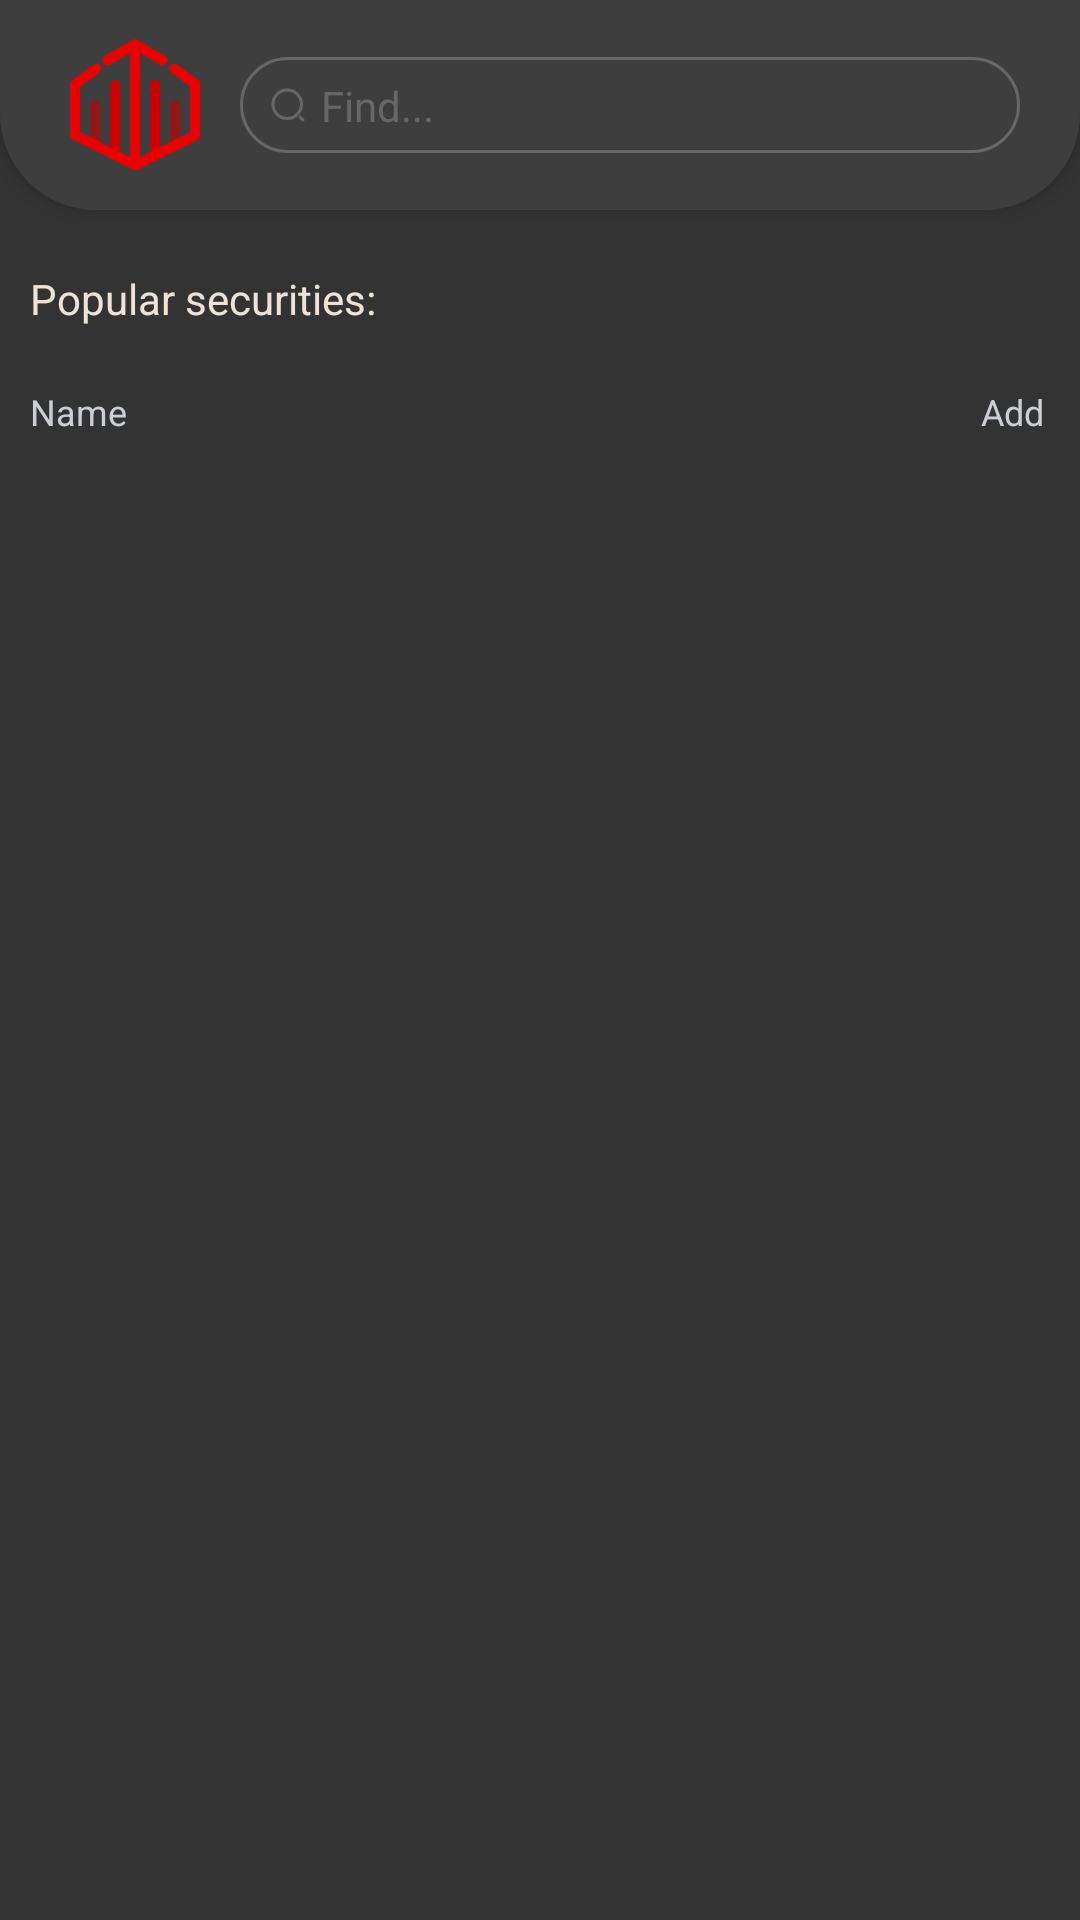

Icon bounding boxes for this 1080px×1920px phone screenshot, format (x1, y1, x2, y2):
seacrh: (272, 89, 304, 121)
